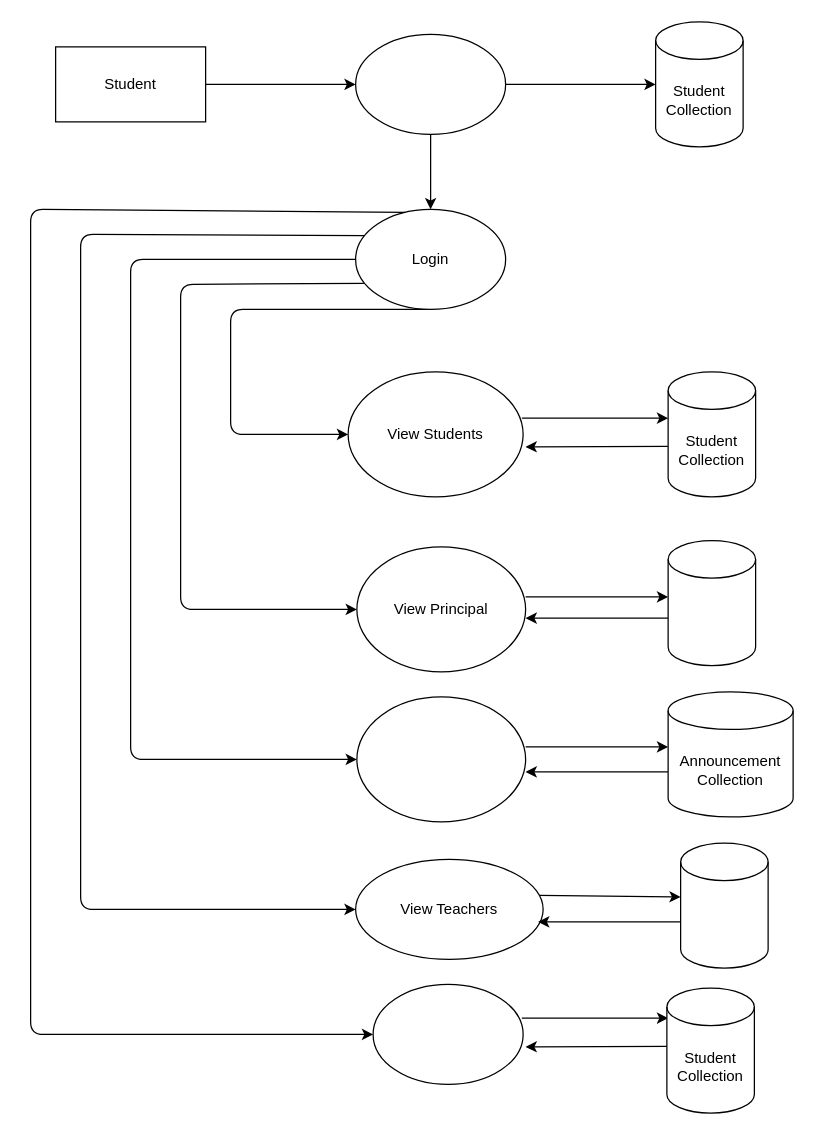
Some shapes in this 815 by 1135 pixel diagram are drawn without their labels. The centre of each missing label's shape, as x and y in pixels:
"Principal Collection" belongs at pixel 711 602.
"Signin" belongs at pixel 430 83.
"Teacher Collection" belongs at pixel 723 905.
"View / Edit Profile, View Attendance, Mark" belongs at pixel 447 1033.
"View Announcements" belongs at pixel 441 759.
